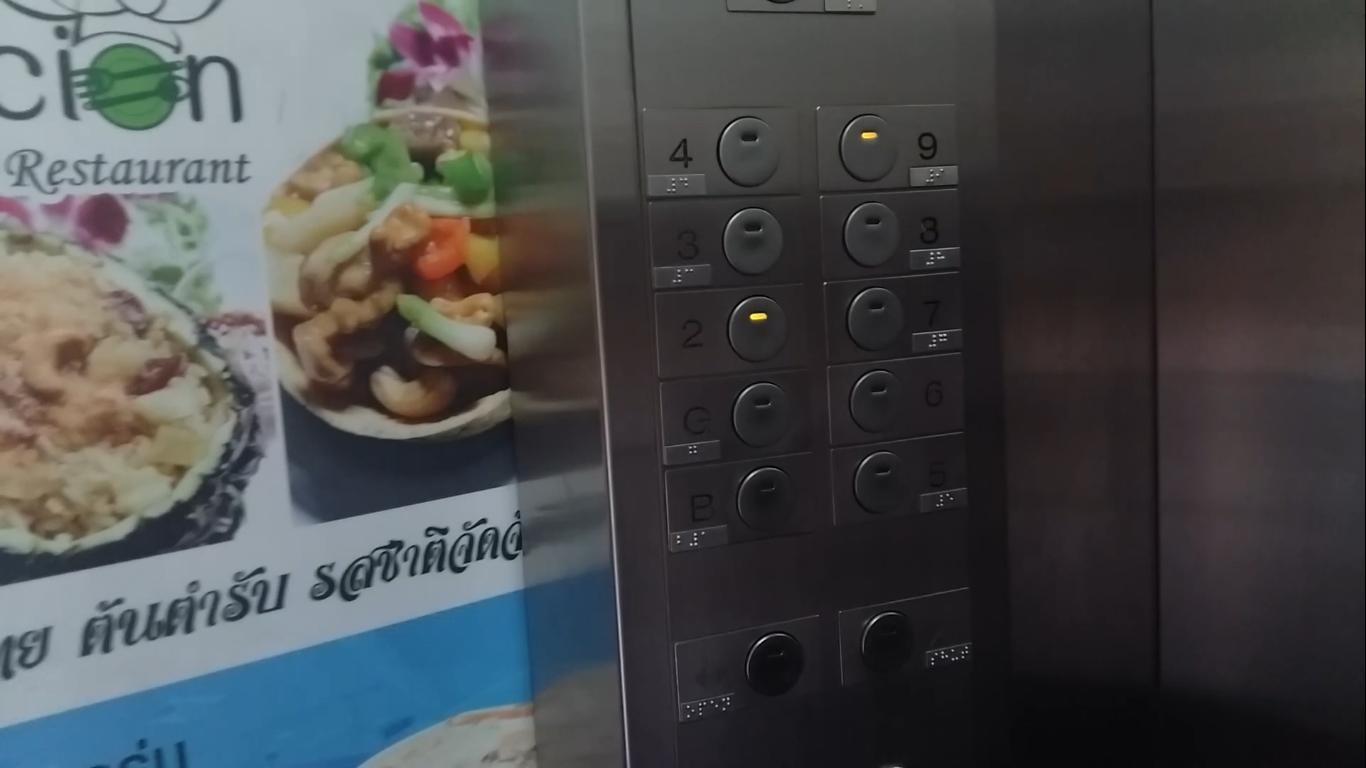2: (647, 283, 825, 376)
3: (640, 194, 819, 293)
4: (636, 101, 815, 198)
5: (827, 434, 980, 531)
6: (823, 348, 978, 451)
7: (820, 264, 975, 367)
8: (810, 192, 975, 285)
9: (810, 99, 972, 196)
B: (659, 448, 833, 555)
G: (655, 366, 829, 473)
empty: (674, 615, 837, 727), (837, 587, 987, 688)
